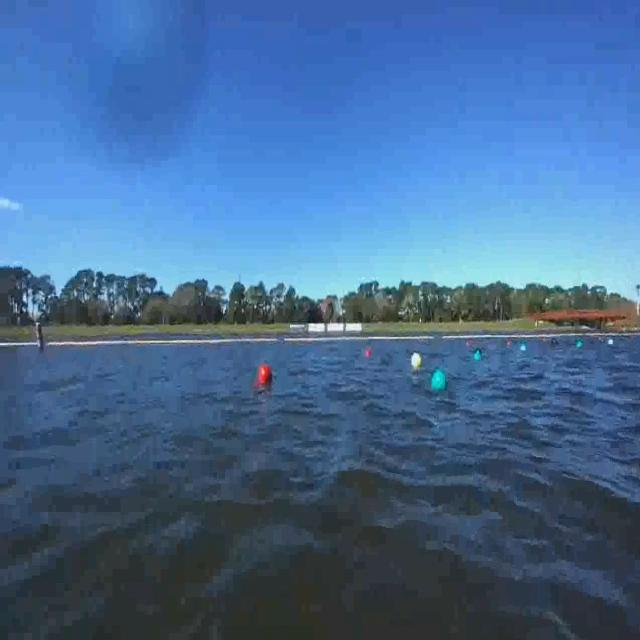green-buoy: (431, 368, 447, 390), (472, 350, 480, 362)
red-buoy: (260, 364, 274, 383), (363, 345, 372, 361)
yellow-buoy: (412, 351, 422, 368)
